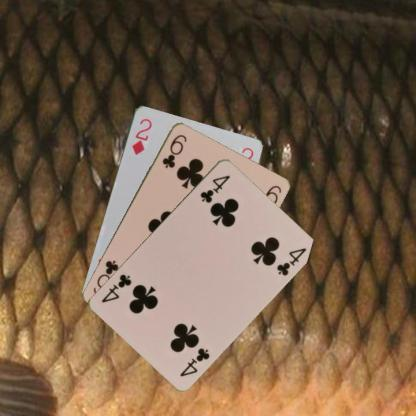2d: (129, 116, 153, 156)
4c: (177, 344, 211, 378), (197, 172, 232, 205)
6c: (160, 131, 188, 169)
